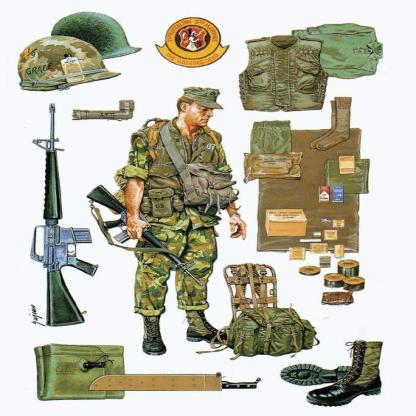Grenade: (172, 194, 188, 213), (140, 196, 154, 216)
Gun: (31, 102, 99, 328), (85, 182, 206, 287)
Knife: (90, 372, 262, 392)
